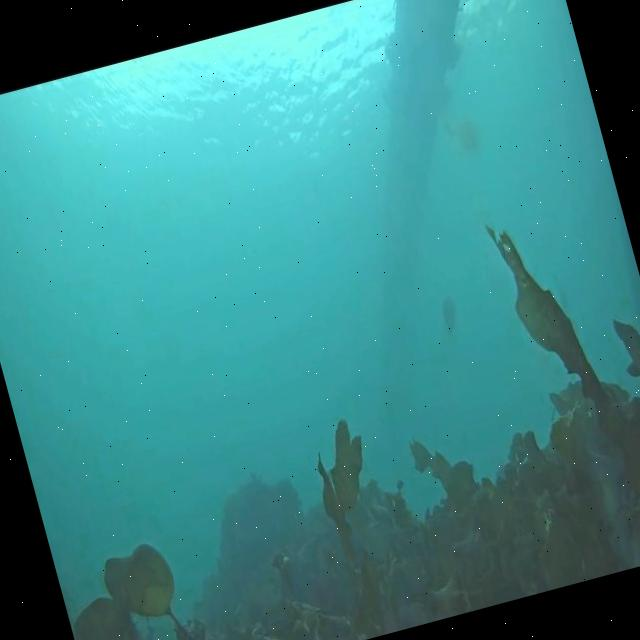fish: (435, 291, 465, 337)
